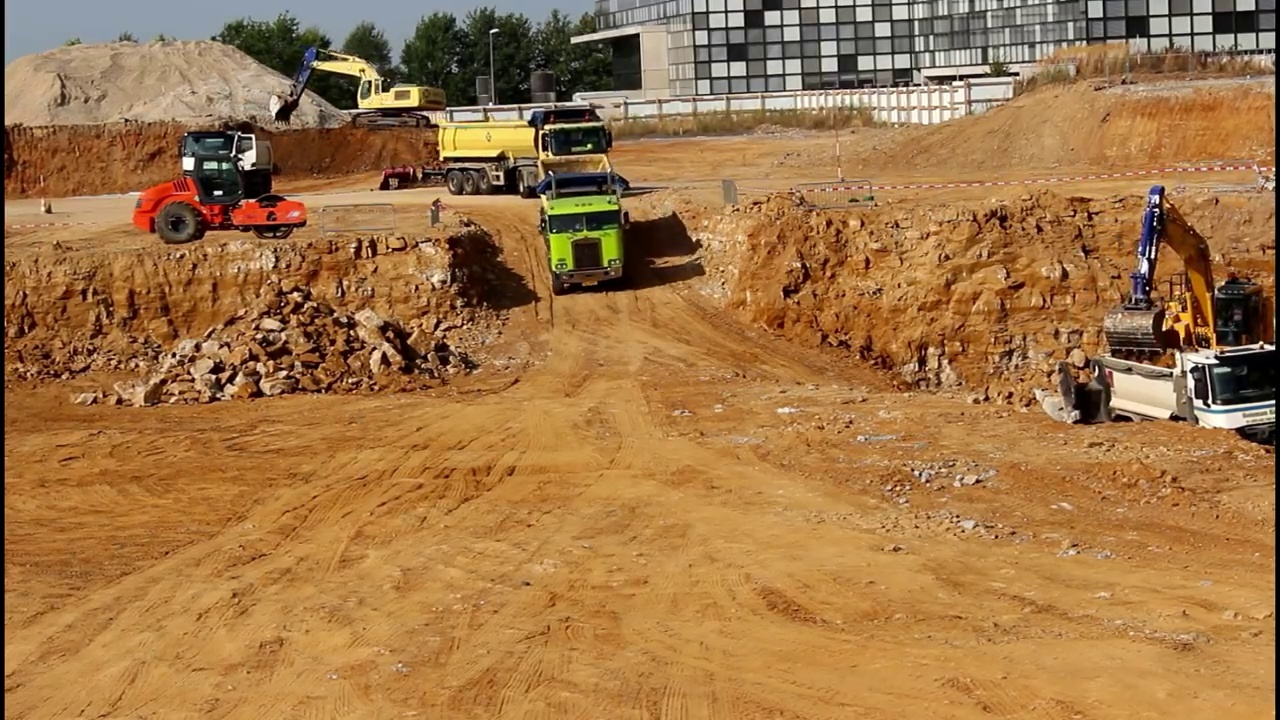compactor: (133, 151, 311, 247)
excavator: (1090, 176, 1280, 403), (266, 37, 450, 137)
truck: (1092, 338, 1280, 475), (432, 99, 619, 202), (526, 152, 635, 298), (176, 126, 284, 213)
